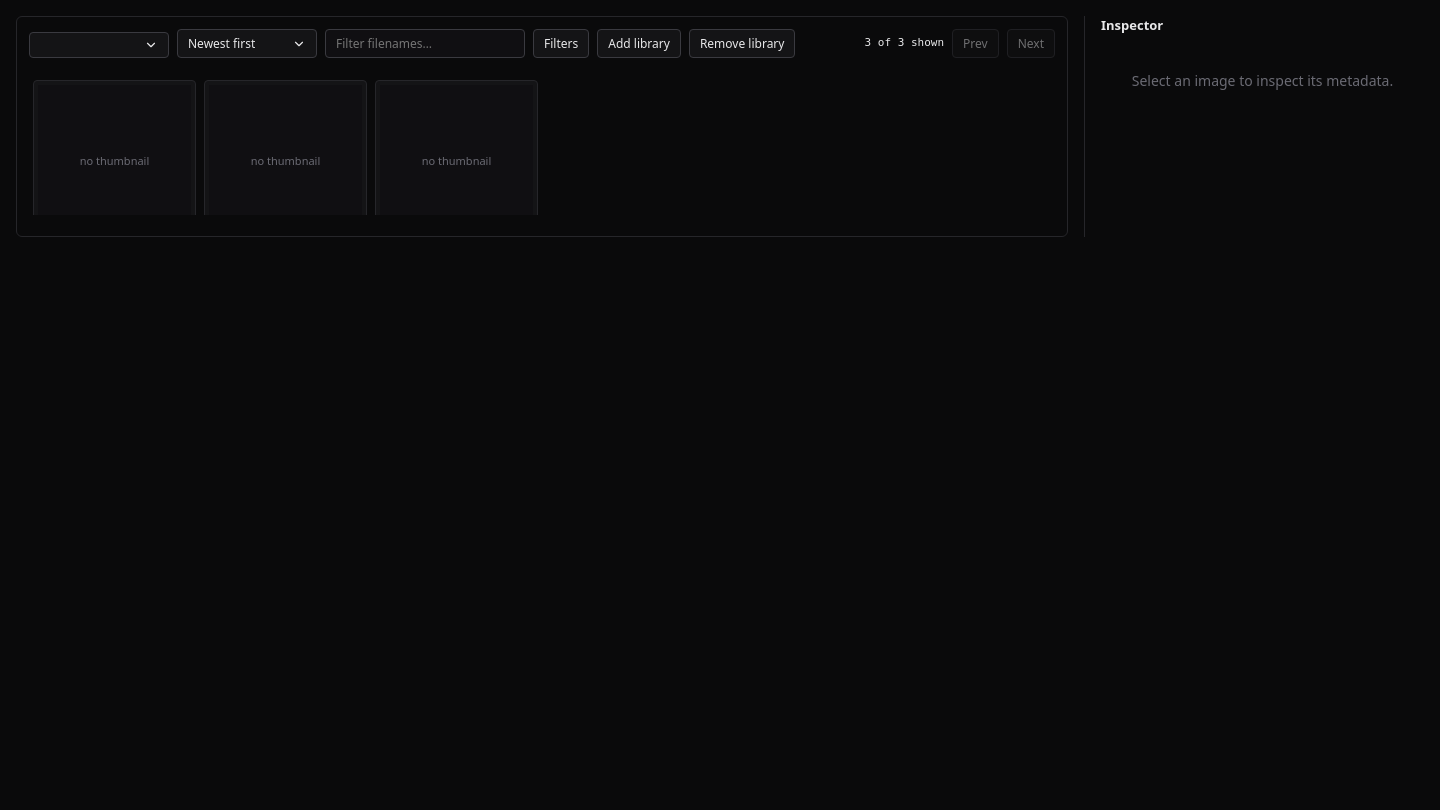
it: viewer navigation across a loaded page › requests the next item when stepping past the last item of the page
Expected: the number of list items with class "cell" is 3, [33, 80, 196, 215]; [204, 80, 367, 215]; [375, 80, 538, 215]
Double-click the 3rd list item with class "cell": coordinates (456, 152) [375, 80, 538, 224]
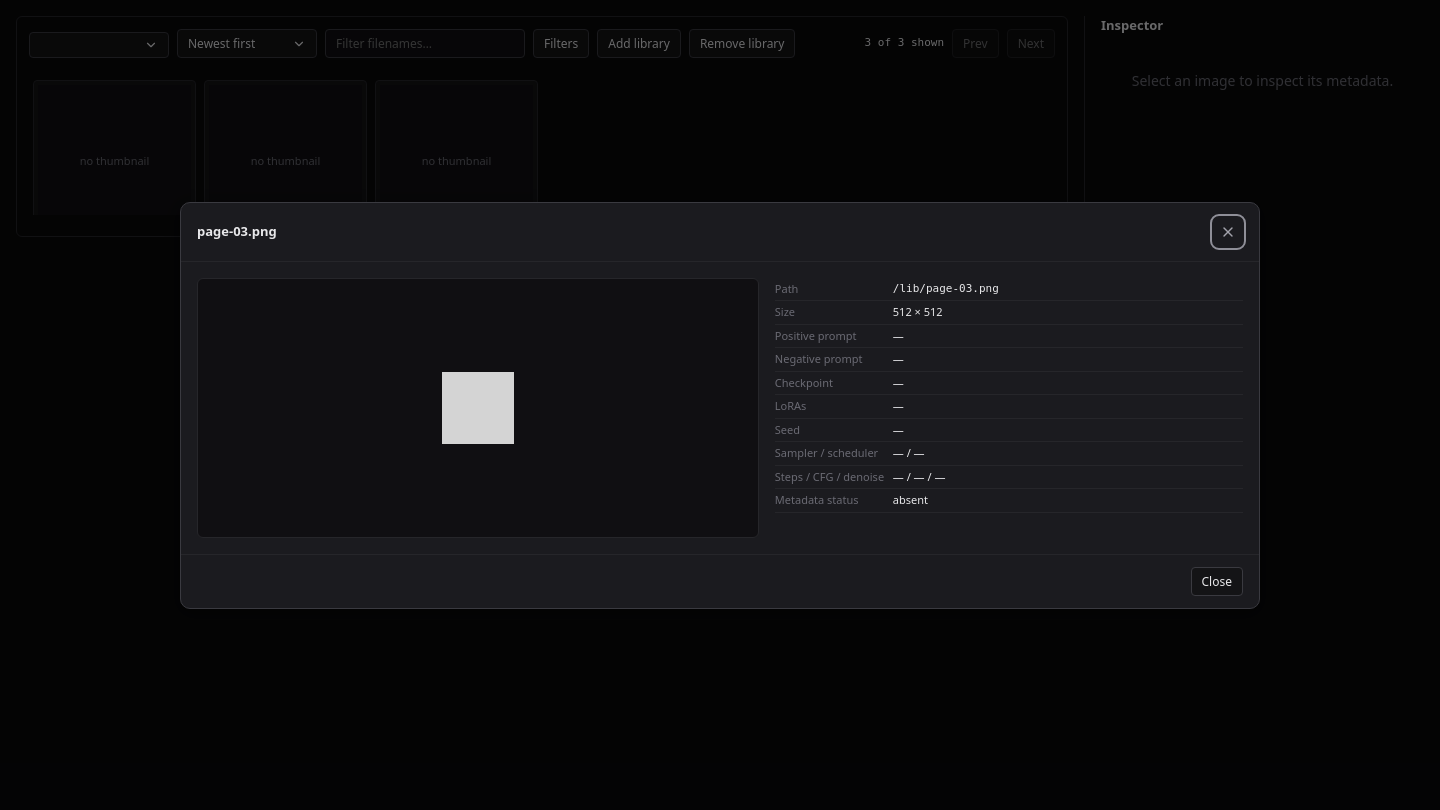
Expected: the dialog is shown
Press ArrowRight in the dialog, box [180, 202, 1260, 608]
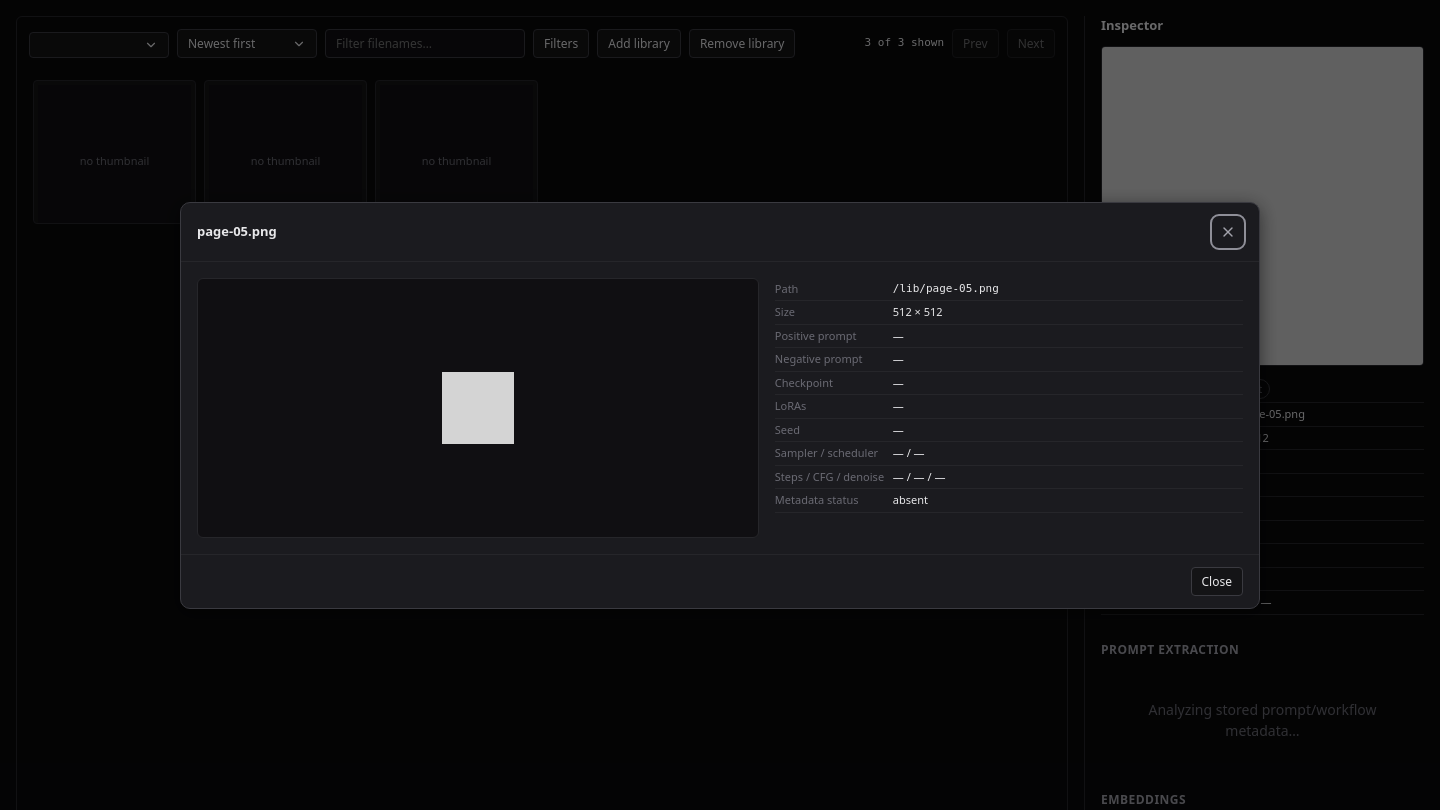
Expected: the heading "page-05.png" is shown, [197, 222, 277, 240]
